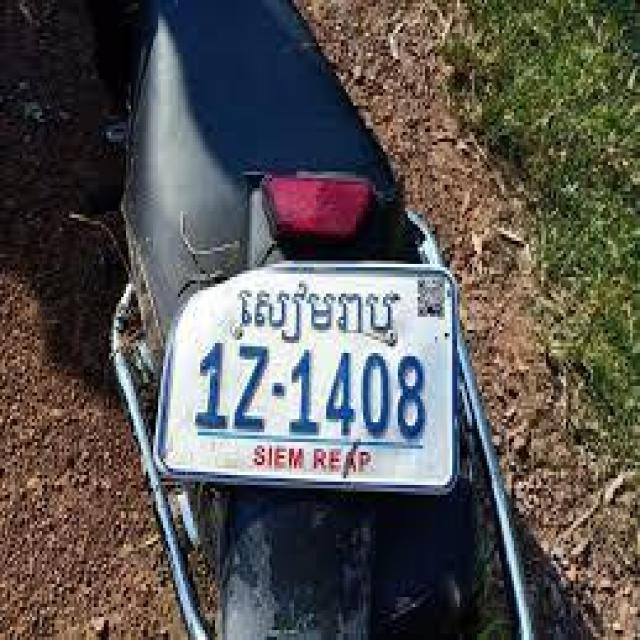Siem_Reap: (232, 274, 398, 345)
